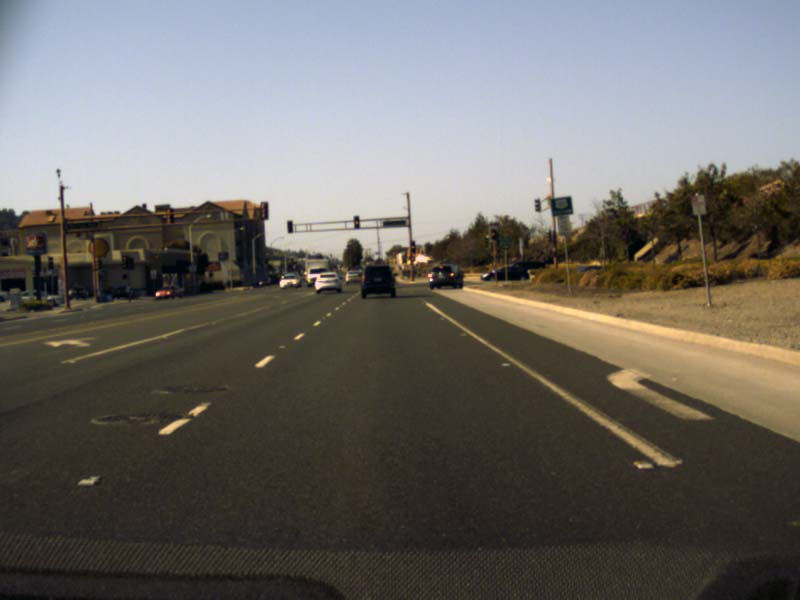Yellow: (353, 215, 359, 229), (410, 241, 415, 252), (490, 229, 495, 239)
